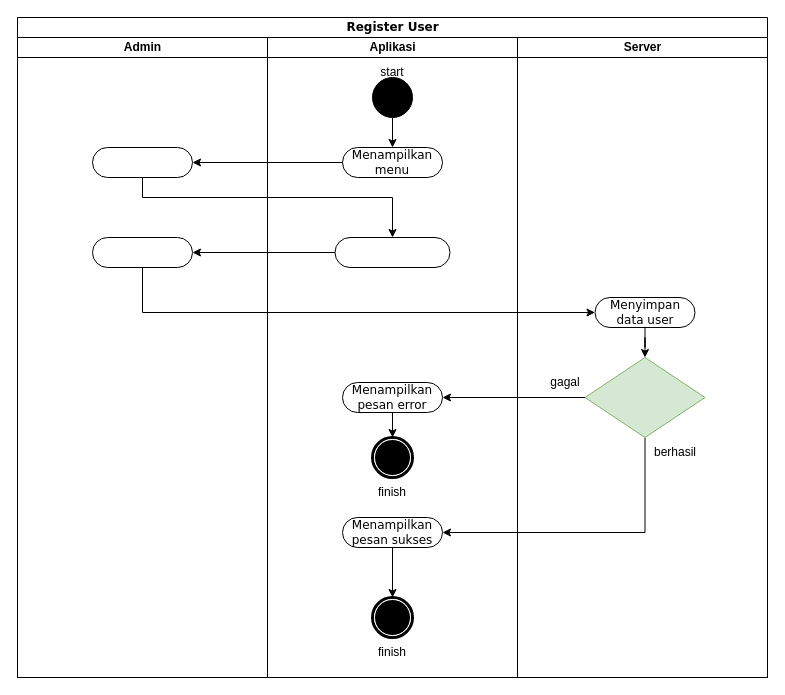
Image size: 785x695. Some labels were removed from this diagram. Here are the shapes that lost their labels. From the top down, the centre of each, then its label:
At point 142,162: "Memilih menu tambah user".
At point 142,252: "Mengisi Form".
At point 392,252: "Menampilkan form registrasi user".
At point 644,397: "Cek status penyimpanan".
